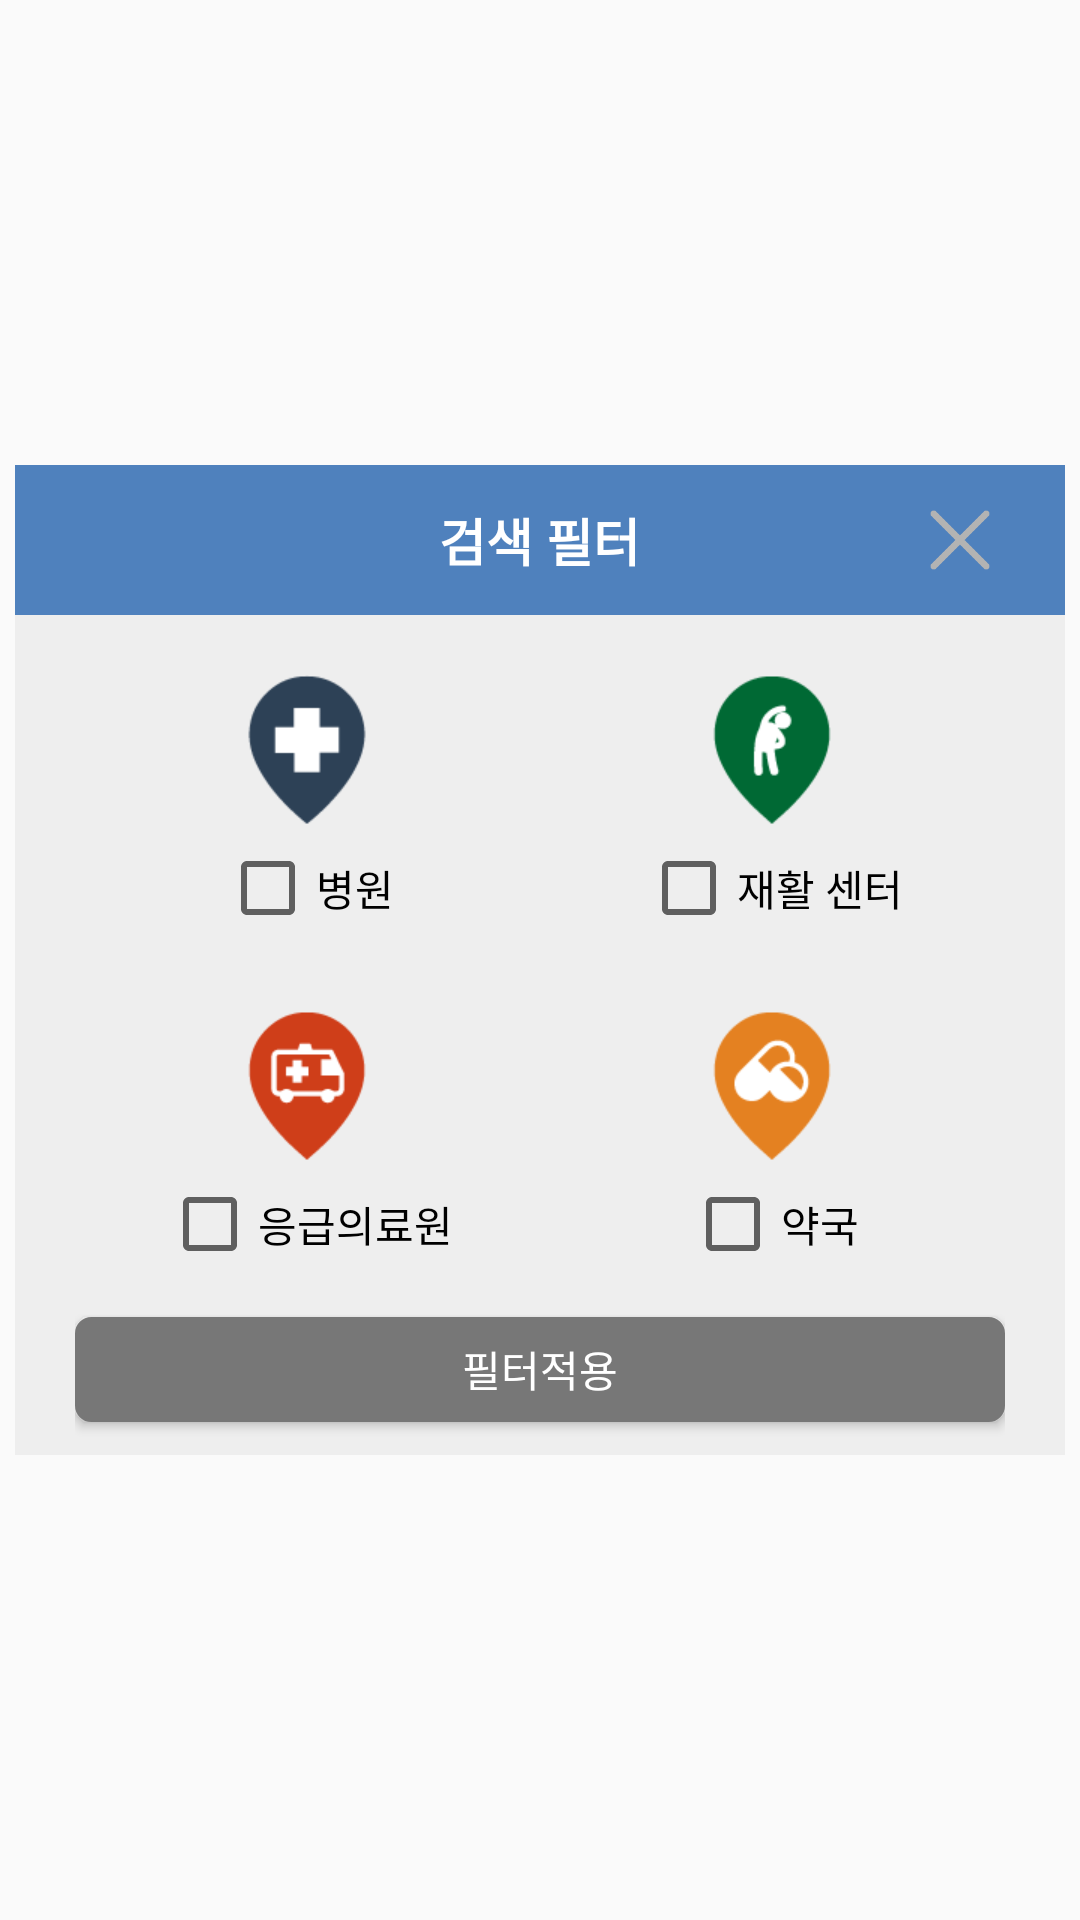

Icons on this 1080×1920 Android screen, each with the point to tap as (x=x, y=y):
filter ambulance: (x=307, y=1086)
취소: (x=960, y=540)
